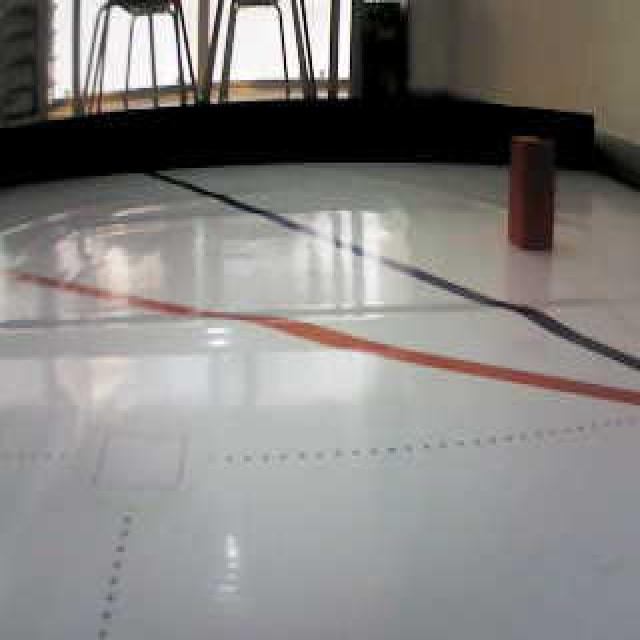azul: (177, 162, 339, 236)
naranja: (85, 262, 356, 372)
rojo: (496, 125, 577, 263)
